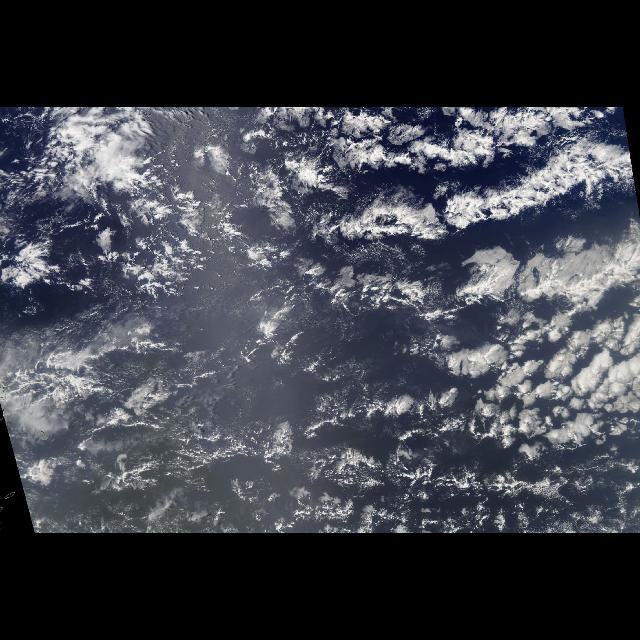Fish: (250, 140, 640, 246), (251, 248, 443, 430)
Flower: (166, 200, 640, 486)
